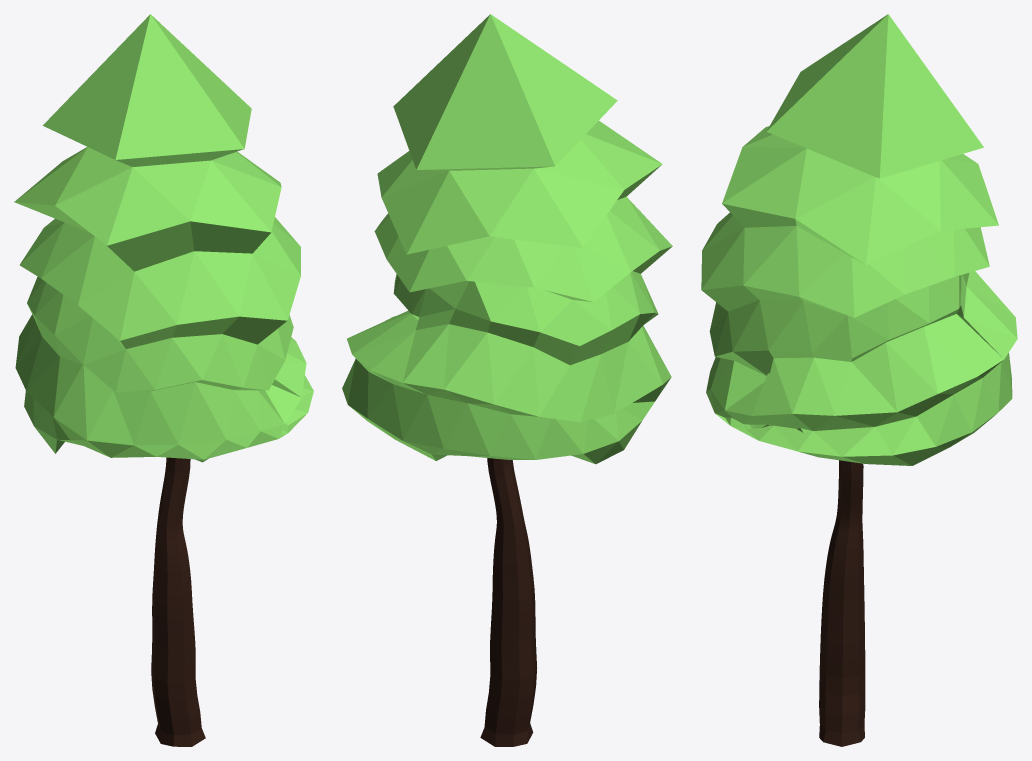
The model's file is pineTree3.fbx.
The picture shows the model from 3 angles, left to right: view 1: azimuth 30°, elevation 25°; view 2: azimuth 150°, elevation 25°; view 3: azimuth 270°, elevation 25°; orthographic projection. The views are drawn at different scales.
Visible parts, largest first — view 1: Leaves, Stump; view 2: Leaves, Stump; view 3: Leaves, Stump.
Part boxes in pixels (box(x1,y1,x2,y2)): Leaves: box(14, 14, 313, 462); Stump: box(151, 457, 205, 746); Leaves: box(342, 14, 672, 464); Stump: box(480, 458, 536, 746); Leaves: box(701, 14, 1017, 465); Stump: box(819, 460, 865, 746).
Bounding box in the file's own units: 433 × 1128 × 448.
